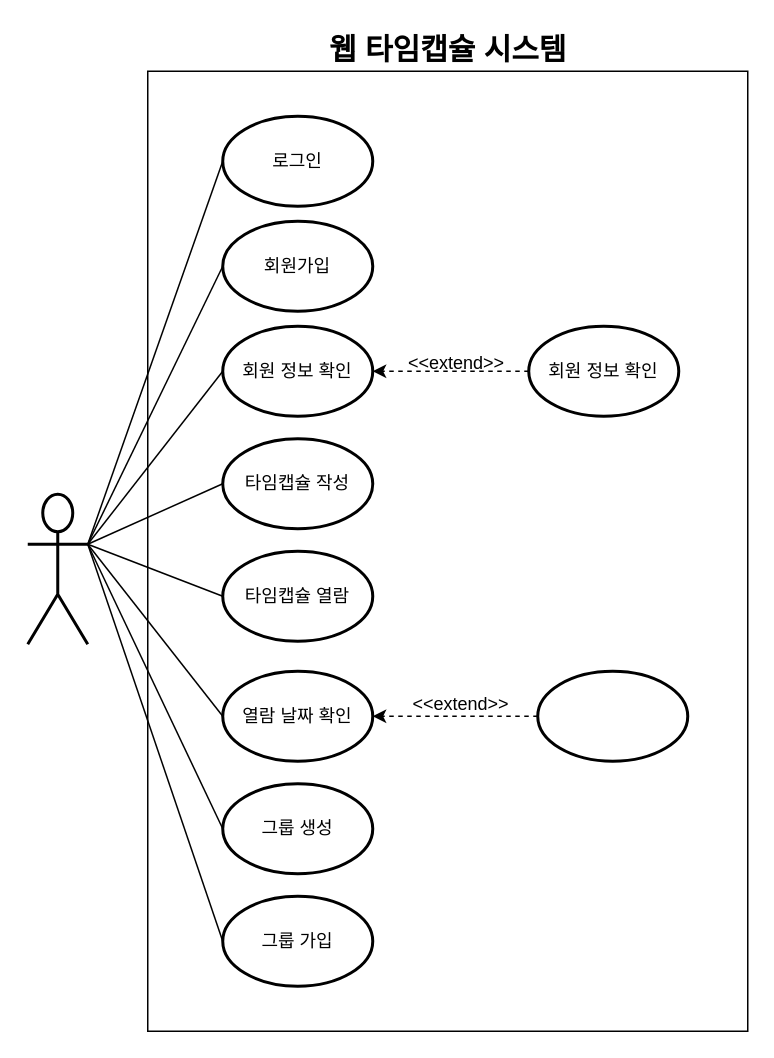
The diagram is 774 pixels wide and 1058 high, and some of its shapes have lost their labels. The shapes that lost their labels are listed below. From the top down, each one's centre as x and y in pixels, then its label:
At (57,568): "사용자".
At (612,715): "열람 날짜 수정".
